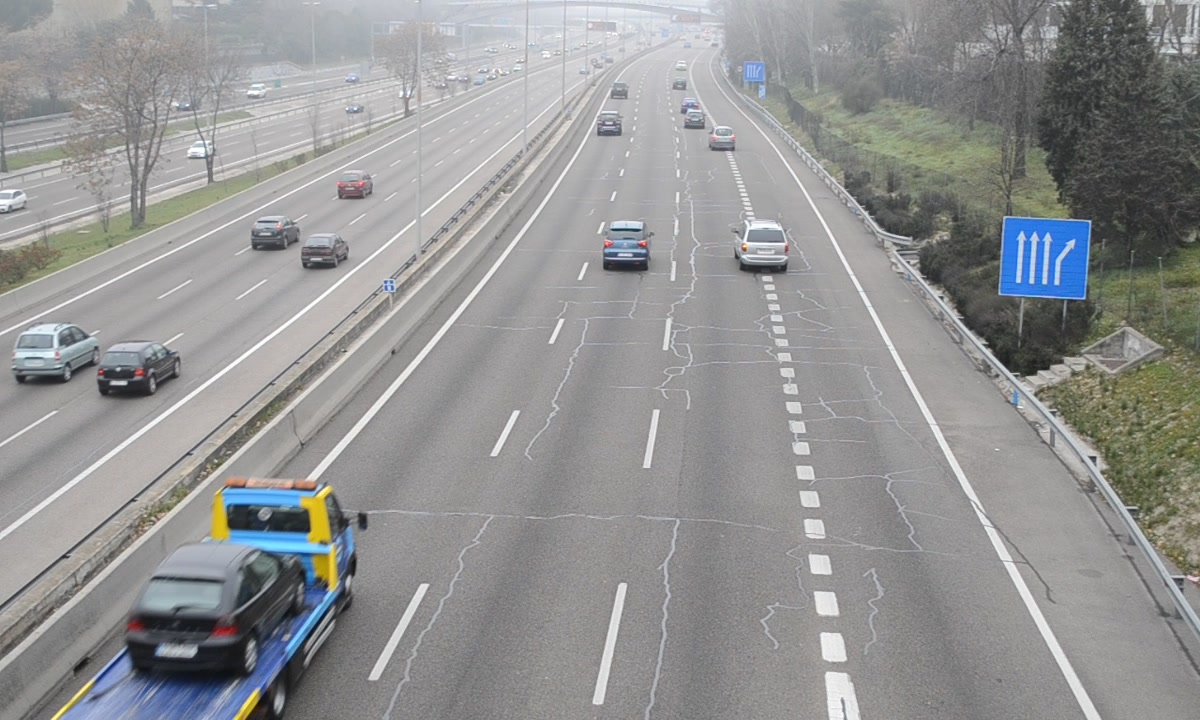car: (737, 219, 790, 270), (602, 222, 650, 268), (595, 110, 623, 138), (708, 125, 736, 152)
small-truck: (48, 474, 358, 720)
